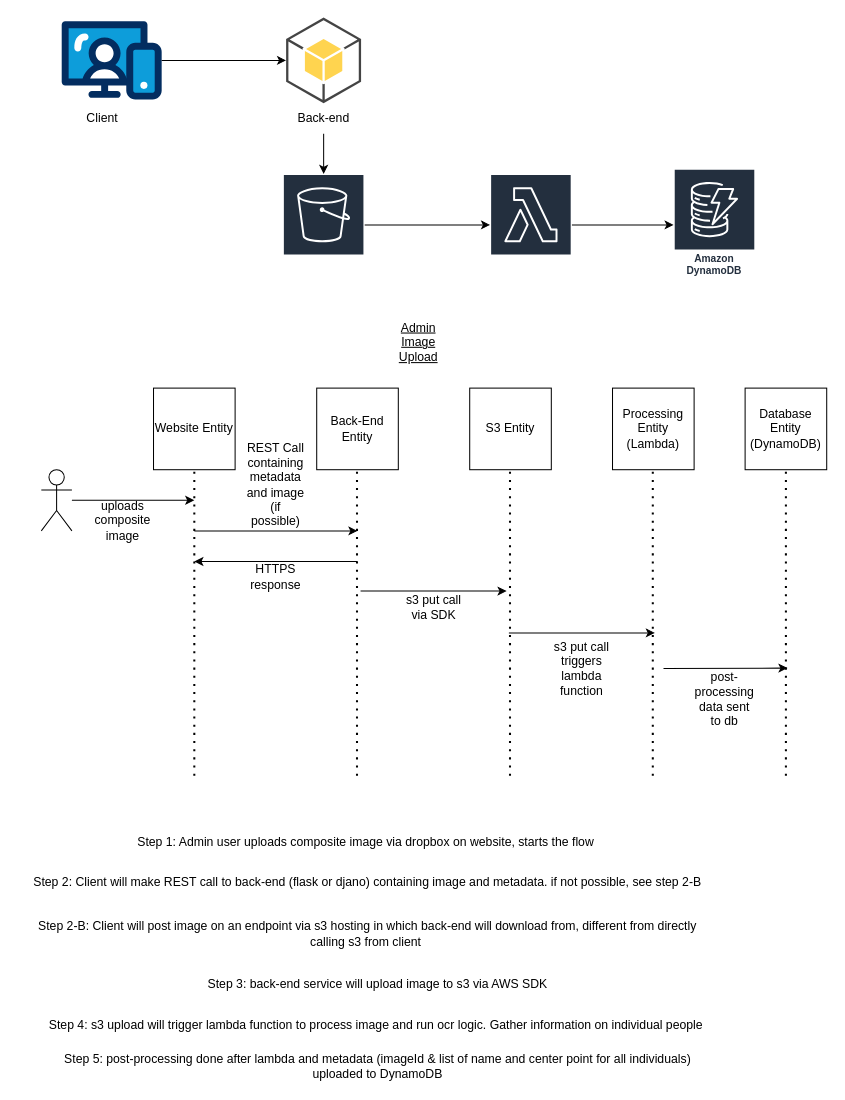
The diagram is 845 pixels wide and 1100 high, and some of its shapes have lost their labels. The centre of each missing label's shape, as x and y in pixels:
"Amazon S3" belongs at pixel 323 224.
"AWS Lambda" belongs at pixel 530 224.
"Client (Admin)" belongs at pixel 56 500.
